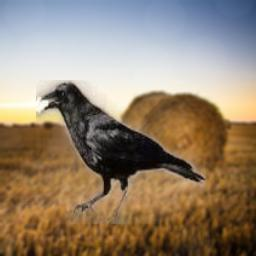Crow: (36, 80, 206, 224)
